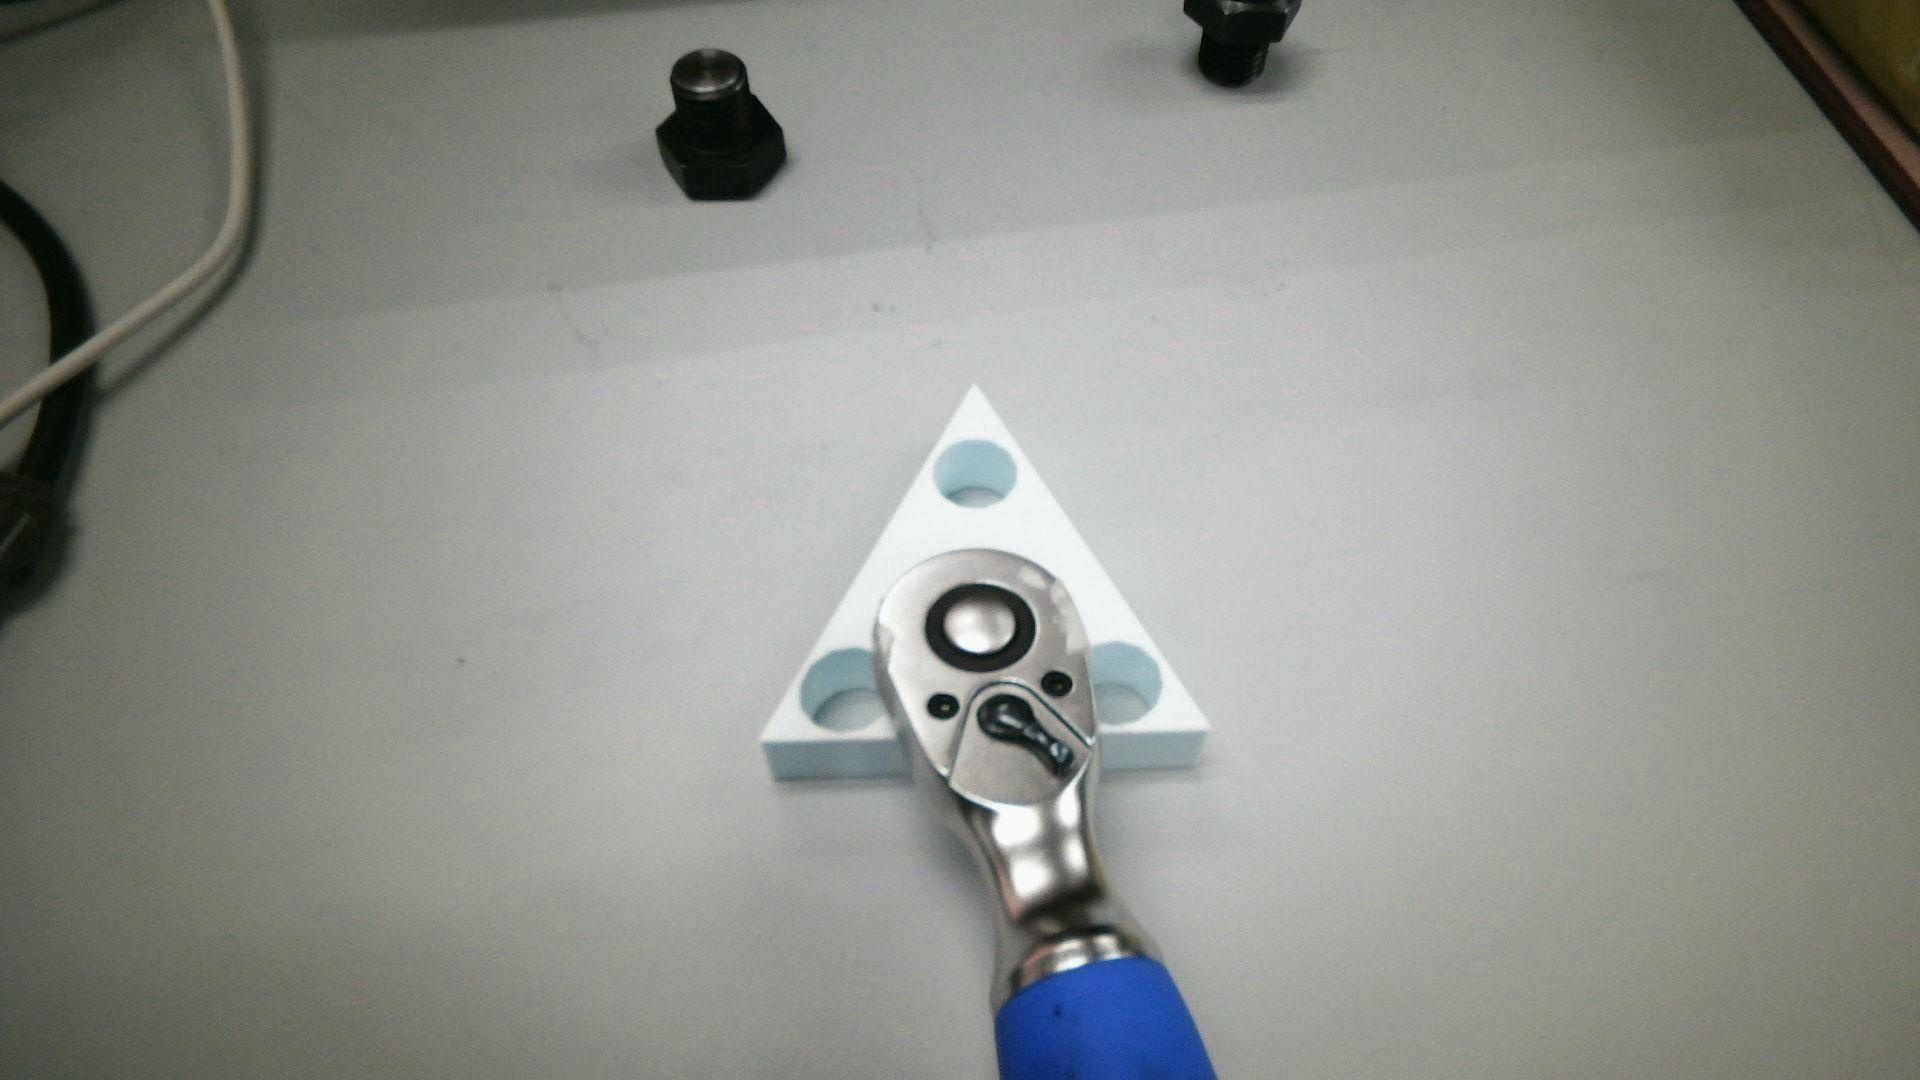hole: (800, 646, 893, 733), (1085, 641, 1162, 725), (932, 439, 1017, 508)
obj: (757, 384, 1208, 782)
wrench: (926, 582, 1036, 673)
